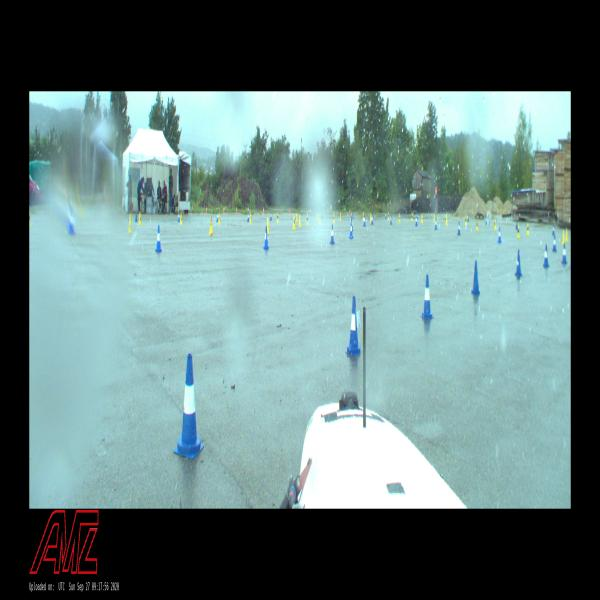blue_cone: (174, 353, 204, 461), (345, 296, 362, 357), (420, 275, 435, 321), (471, 260, 481, 296), (154, 226, 163, 252), (514, 250, 522, 278), (263, 225, 270, 250), (543, 243, 549, 269), (68, 208, 74, 234), (561, 243, 568, 264), (330, 226, 335, 244), (497, 227, 502, 243), (552, 235, 556, 252), (349, 221, 353, 238), (457, 222, 461, 235), (350, 215, 353, 232), (435, 217, 438, 230), (135, 210, 138, 222), (515, 219, 518, 230), (415, 216, 418, 226), (363, 216, 366, 226), (552, 224, 555, 234), (216, 209, 218, 222), (178, 211, 180, 222), (485, 214, 487, 225), (390, 214, 392, 225), (371, 214, 373, 225), (247, 212, 249, 222), (270, 211, 272, 221), (467, 212, 469, 222), (385, 210, 387, 220), (444, 212, 446, 220), (352, 211, 354, 219), (416, 212, 418, 219)
orange_cone: (223, 206, 225, 214), (236, 206, 238, 214), (263, 206, 265, 213), (309, 207, 311, 214), (349, 208, 351, 214), (247, 207, 249, 213), (289, 207, 290, 214), (206, 207, 207, 213)
yellow_cone: (127, 215, 133, 234), (209, 216, 214, 236), (292, 215, 296, 230), (562, 229, 566, 244), (138, 212, 142, 226), (526, 222, 530, 235), (475, 219, 479, 231), (179, 213, 183, 225), (565, 227, 568, 242), (517, 225, 520, 239), (29, 206, 31, 226), (218, 212, 221, 225), (268, 216, 270, 235), (298, 215, 301, 227), (494, 219, 497, 230), (306, 214, 309, 225), (445, 214, 448, 225), (318, 213, 321, 224), (249, 213, 252, 224), (276, 213, 279, 223), (398, 213, 401, 223), (465, 215, 467, 225), (333, 214, 335, 224), (433, 212, 435, 222), (370, 212, 372, 222), (316, 211, 318, 221), (296, 212, 298, 222), (421, 214, 423, 223), (411, 212, 413, 220), (388, 212, 390, 220), (362, 212, 364, 220), (339, 212, 341, 220)
